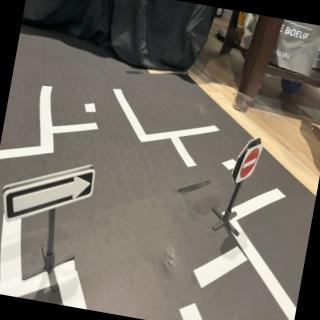sign_noentry: (235, 140, 267, 191)
sign_oneway_right: (1, 152, 99, 239)
